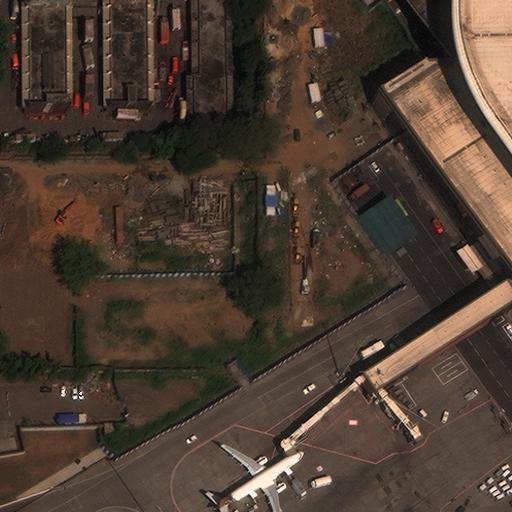Medium Civil Transport: (214, 443, 303, 511)
